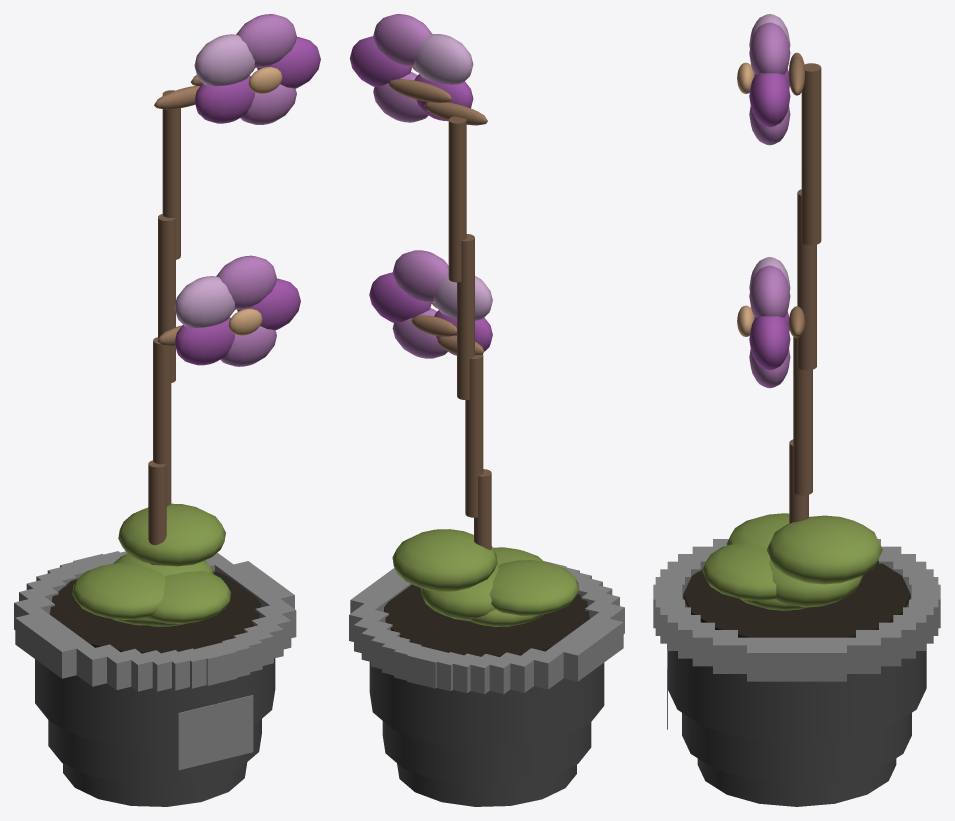
Rendered from CMU3DPottedPlant18.glb.
The picture shows the model from 3 angles, left to right: view 1: azimuth 30°, elevation 25°; view 2: azimuth 150°, elevation 25°; view 3: azimuth 270°, elevation 25°; orthographic projection. The views are drawn at different scales.
Parts seen in each view (by area): view 1: orchid petal (×10), hollow curved planter rim (×16), tapered leaf blade (×4), upper pot wall, branch (×5), recessed soil, lower tapered pot wall, pot front highlight, narrow pot foot, orchid warm center (×2); view 2: orchid petal (×10), hollow curved planter rim (×16), upper pot wall, tapered leaf blade (×5), branch (×7), lower tapered pot wall, recessed soil, narrow pot foot; view 3: upper pot wall, tapered leaf blade (×4), hollow curved planter rim (×8), branch (×4), lower tapered pot wall, orchid petal (×6), recessed soil, narrow pot foot.
Boxes of the visible parts, left/top/right/bottom form: orchid petal (×10): left=174, top=14, right=320, bottom=366; hollow curved planter rim (×16): left=14, top=553, right=296, bottom=691; tapered leaf blade (×4): left=72, top=503, right=231, bottom=623; upper pot wall: left=35, top=658, right=275, bottom=747; branch (×5): left=148, top=85, right=199, bottom=565; recessed soil: left=49, top=571, right=260, bottom=653; lower tapered pot wall: left=48, top=719, right=261, bottom=785; pot front highlight: left=178, top=695, right=253, bottom=770; narrow pot foot: left=63, top=762, right=247, bottom=806; orchid warm center (×2): left=228, top=67, right=282, bottom=335; orchid petal (×10): left=350, top=14, right=492, bottom=358; hollow curved planter rim (×16): left=349, top=568, right=624, bottom=694; upper pot wall: left=369, top=661, right=604, bottom=748; tapered leaf blade (×5): left=392, top=529, right=579, bottom=626; branch (×7): left=388, top=79, right=491, bottom=549; lower tapered pot wall: left=382, top=721, right=591, bottom=785; recessed soil: left=384, top=584, right=589, bottom=656; narrow pot foot: left=397, top=763, right=576, bottom=806; upper pot wall: left=667, top=602, right=926, bottom=743; tapered leaf blade (×4): left=702, top=513, right=882, bottom=607; hollow curved planter rim (×8): left=667, top=615, right=926, bottom=681; branch (×4): left=789, top=63, right=821, bottom=523; lower tapered pot wall: left=682, top=713, right=911, bottom=783; orchid petal (×6): left=749, top=22, right=790, bottom=388; recessed soil: left=683, top=561, right=910, bottom=637; narrow pot foot: left=697, top=758, right=896, bottom=806.
Size of the model in its own units: 0.403 by 1.06 by 0.3493.
